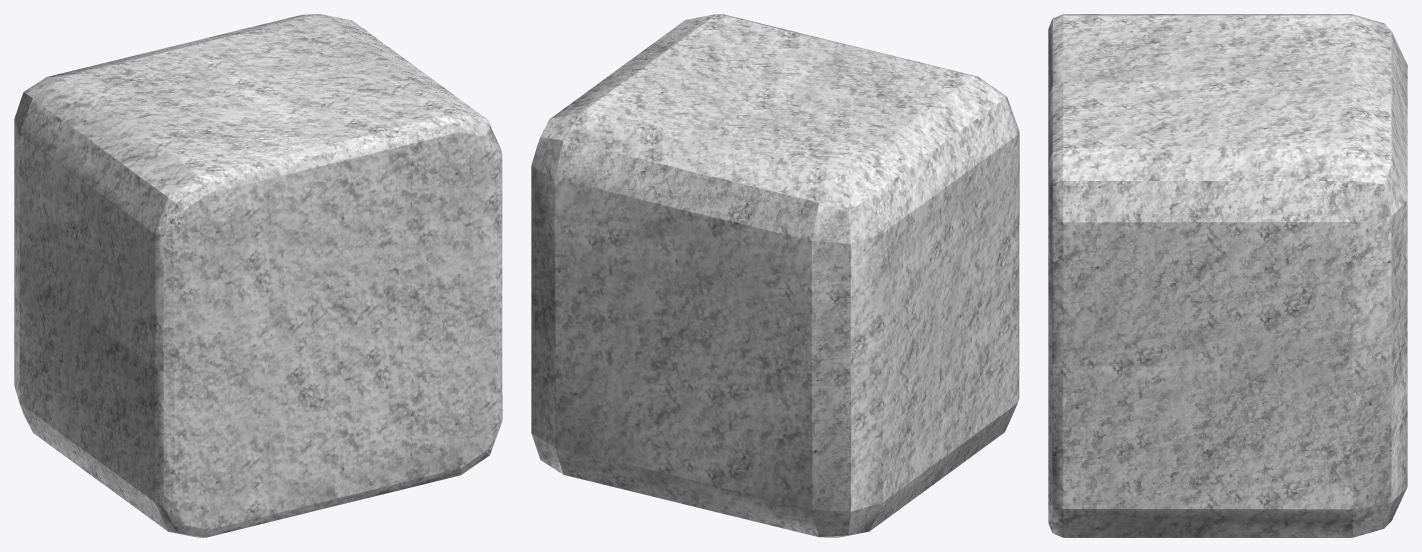
Rendered from MeshRobothorSaltPepperShakerBnyd_0_GeomSubset_2.obj.
3 views of the same model, side by side, from view 1: azimuth 30°, elevation 25°; view 2: azimuth 150°, elevation 25°; view 3: azimuth 270°, elevation 25° (orthographic). The views are drawn at different scales.
Visible parts, largest first — view 1: MeshRobothorSaltPepperShakerBnyd_0_GeomSubset_2; view 2: MeshRobothorSaltPepperShakerBnyd_0_GeomSubset_2; view 3: MeshRobothorSaltPepperShakerBnyd_0_GeomSubset_2.
Boxes of the visible parts, <box> form: MeshRobothorSaltPepperShakerBnyd_0_GeomSubset_2: <box>14,14,502,537</box>; MeshRobothorSaltPepperShakerBnyd_0_GeomSubset_2: <box>531,14,1019,537</box>; MeshRobothorSaltPepperShakerBnyd_0_GeomSubset_2: <box>1048,14,1407,537</box>.
Size of the model in its own units: 0.037 by 0.037 by 0.0312.
Materials: 1 (1 with a texture image).
